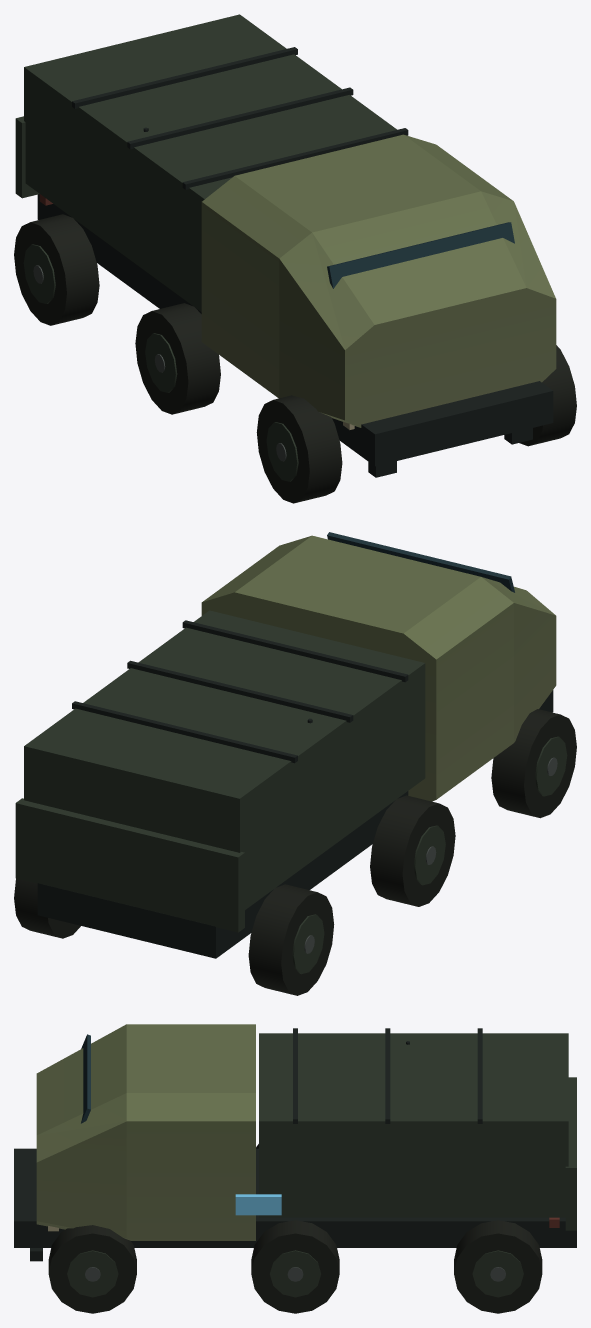
File: logiTruck-lod.glb
3 views of the same model, one above another, from view 1: azimuth 30°, elevation 25°; view 2: azimuth 150°, elevation 25°; view 3: azimuth 270°, elevation 25° (orthographic). The views are drawn at different scales.
Parts seen in each view (by area): view 1: equipment; view 2: equipment; view 3: equipment, marking.
Part boxes in pixels (bbox=[...]): equipment: bbox=[14, 14, 576, 503]; equipment: bbox=[14, 532, 576, 995]; equipment: bbox=[14, 1024, 576, 1313]; marking: bbox=[235, 1194, 281, 1215].
Bounding box in the file's own units: 2.84 × 2.4 × 6.1.
